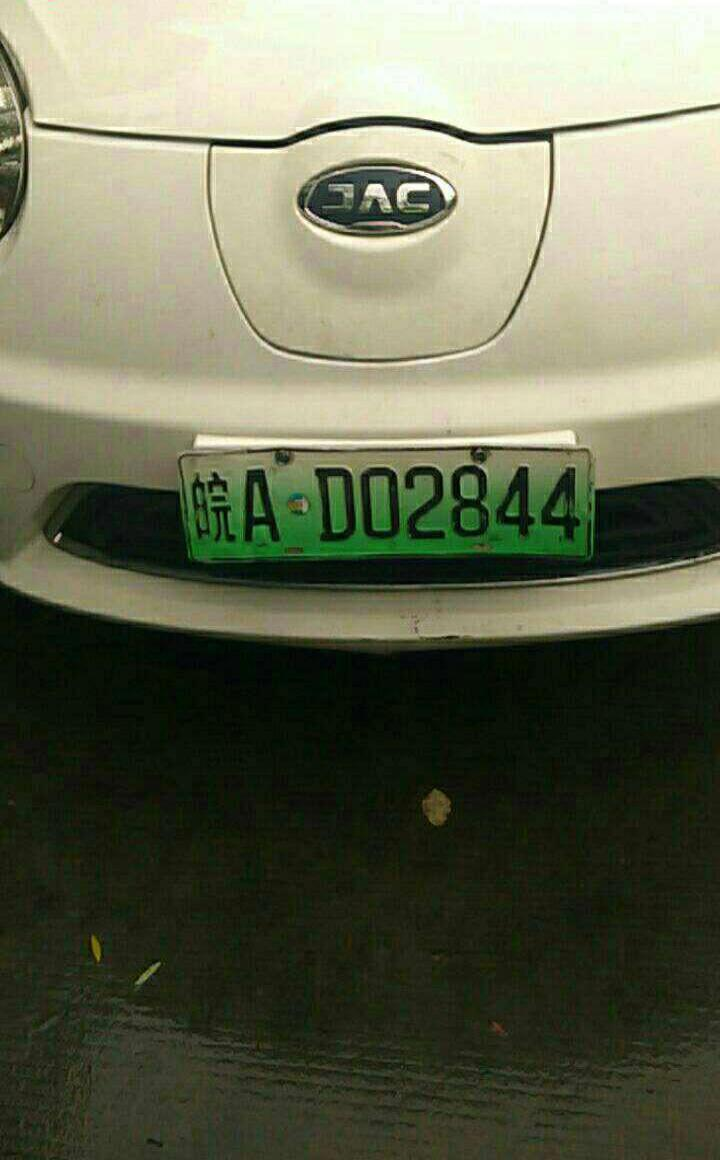car_id: (175, 445, 589, 561)
